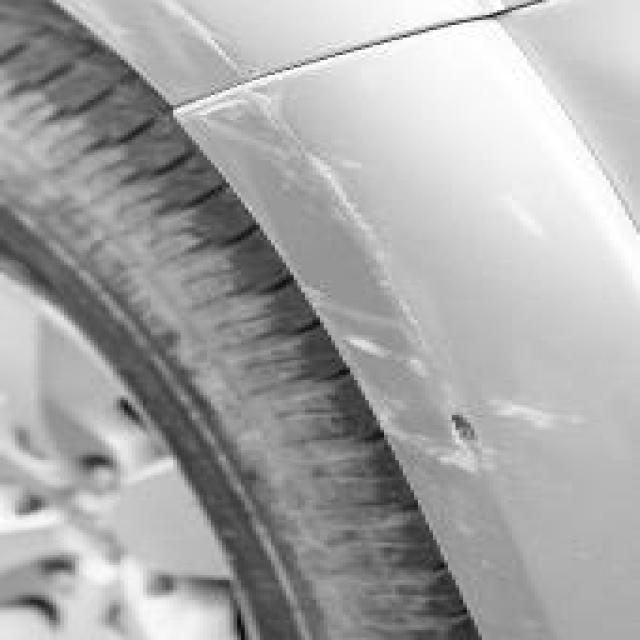Bumper: (157, 0, 640, 640)
Fender: (49, 0, 544, 91)
